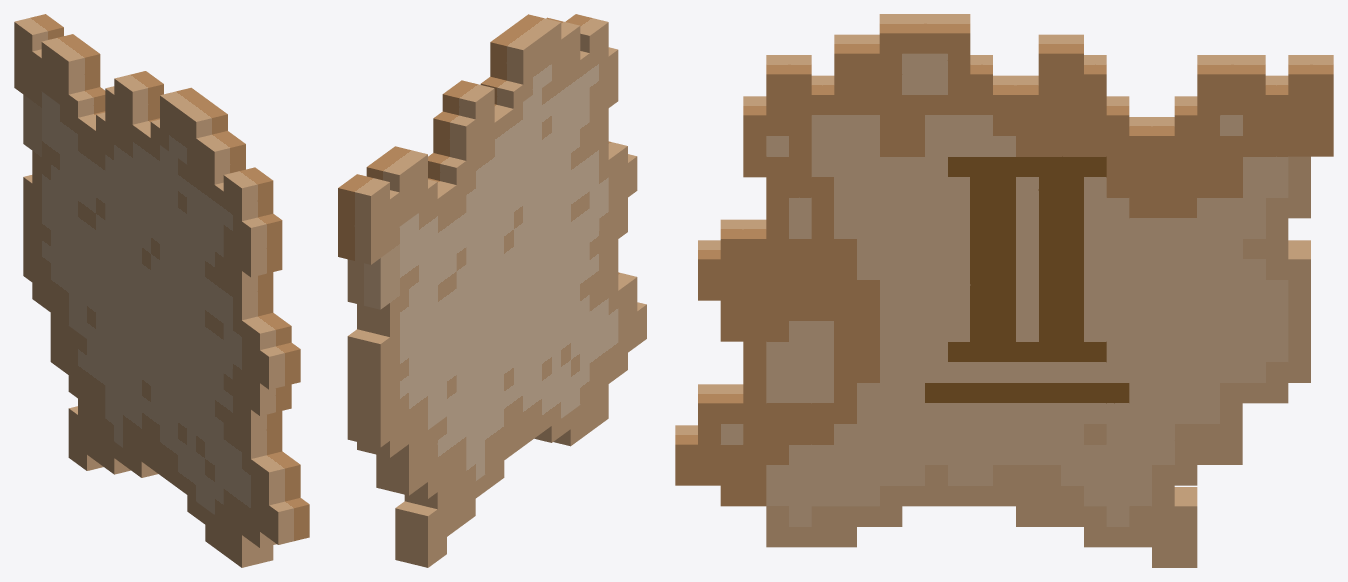
Rendered from item_foundersmappiece2.gltf.
3 views of the same model, side by side, from view 1: azimuth 30°, elevation 25°; view 2: azimuth 150°, elevation 25°; view 3: azimuth 270°, elevation 25° (orthographic). The views are drawn at different scales.
Parts seen in each view (by area): view 1: item_mappiece-Local; view 2: item_mappiece-Local; view 3: item_mappiece-Local.
Boxes of the visible parts, x1=… form: item_mappiece-Local: x1=14, y1=14, x2=309, y2=567; item_mappiece-Local: x1=338, y1=14, x2=646, y2=567; item_mappiece-Local: x1=675, y1=14, x2=1333, y2=567.
Bounding box in the file's own units: 2 × 26 × 29.
1 material, 1 textured.
